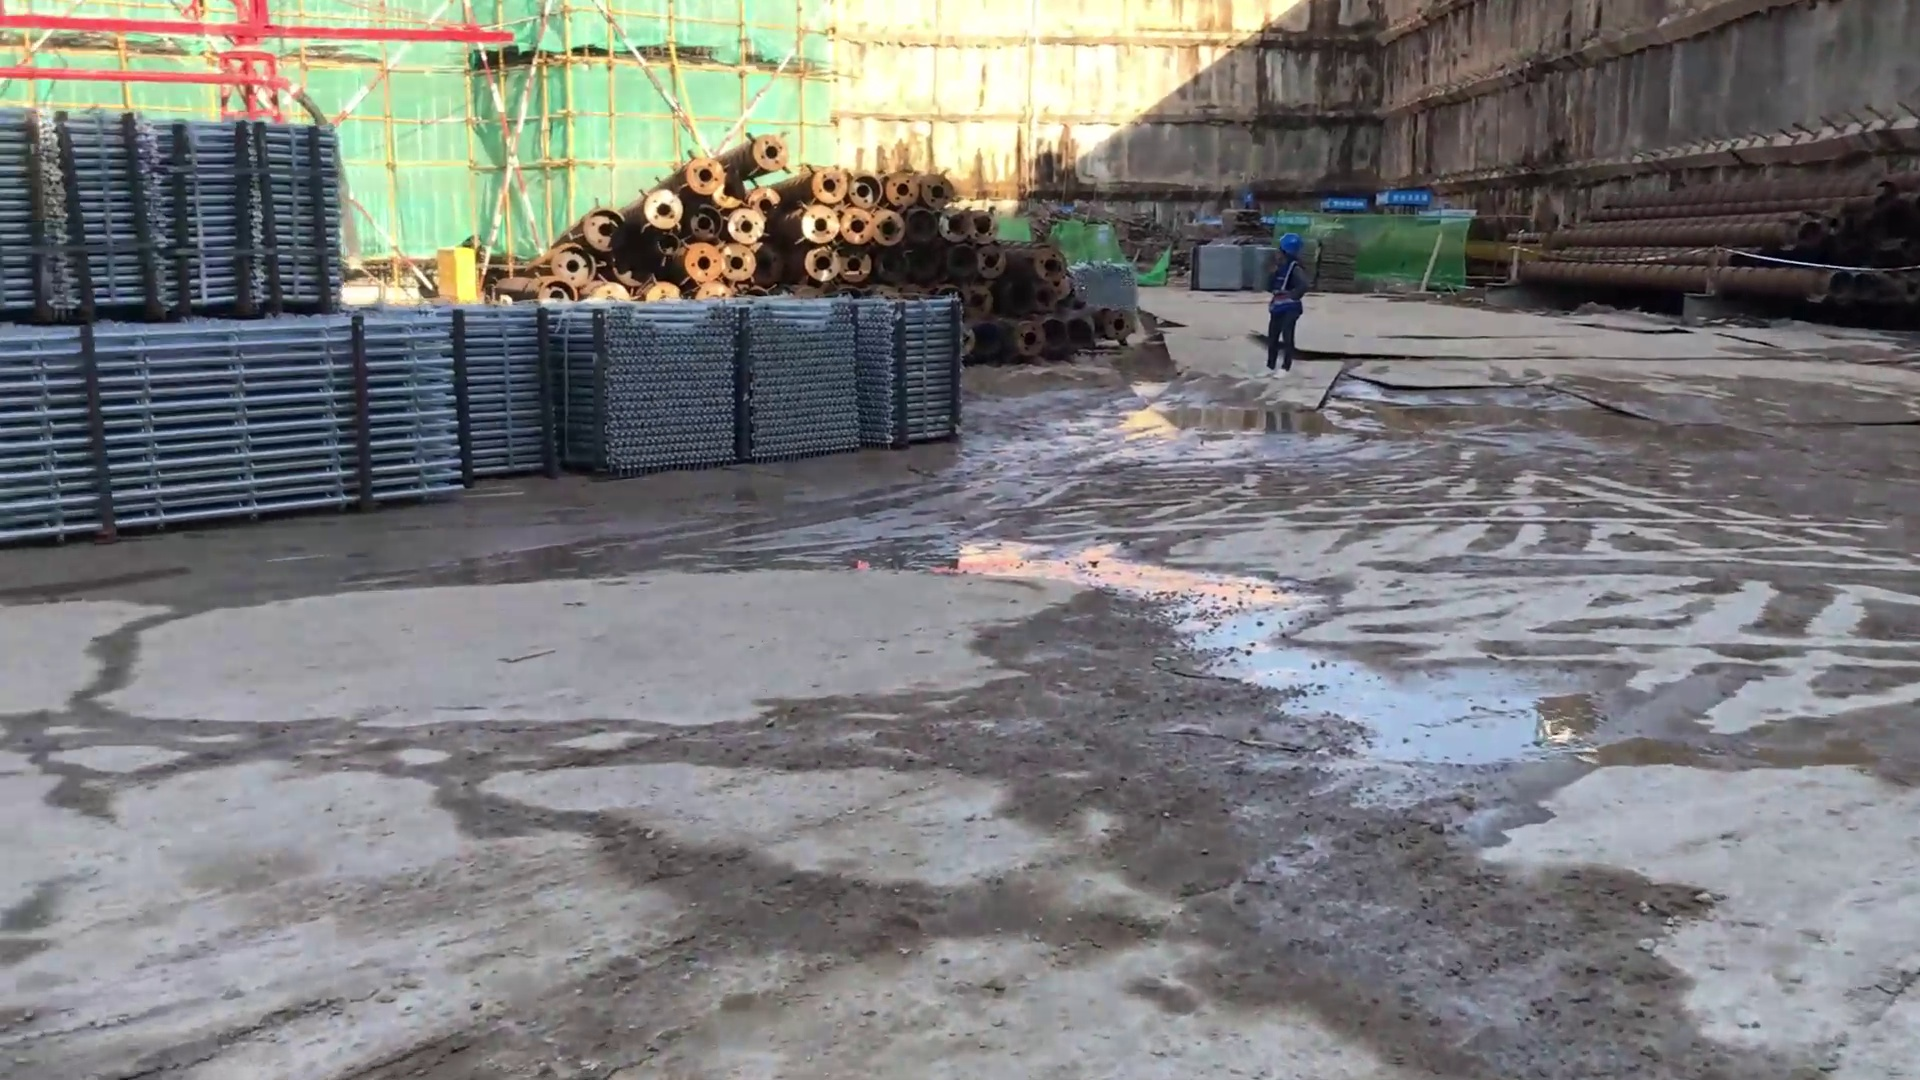ebox: (425, 230, 497, 304)
helmet: (1273, 236, 1309, 269)
person: (1263, 228, 1305, 378)
scaffold: (8, 320, 462, 518), (4, 101, 328, 318), (567, 296, 741, 463), (447, 292, 566, 478), (743, 294, 860, 453), (855, 298, 963, 437)
vest: (1270, 272, 1299, 311)
